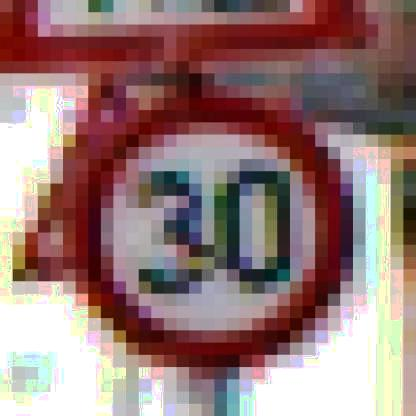Speed Limit -30-: (70, 92, 364, 376)
